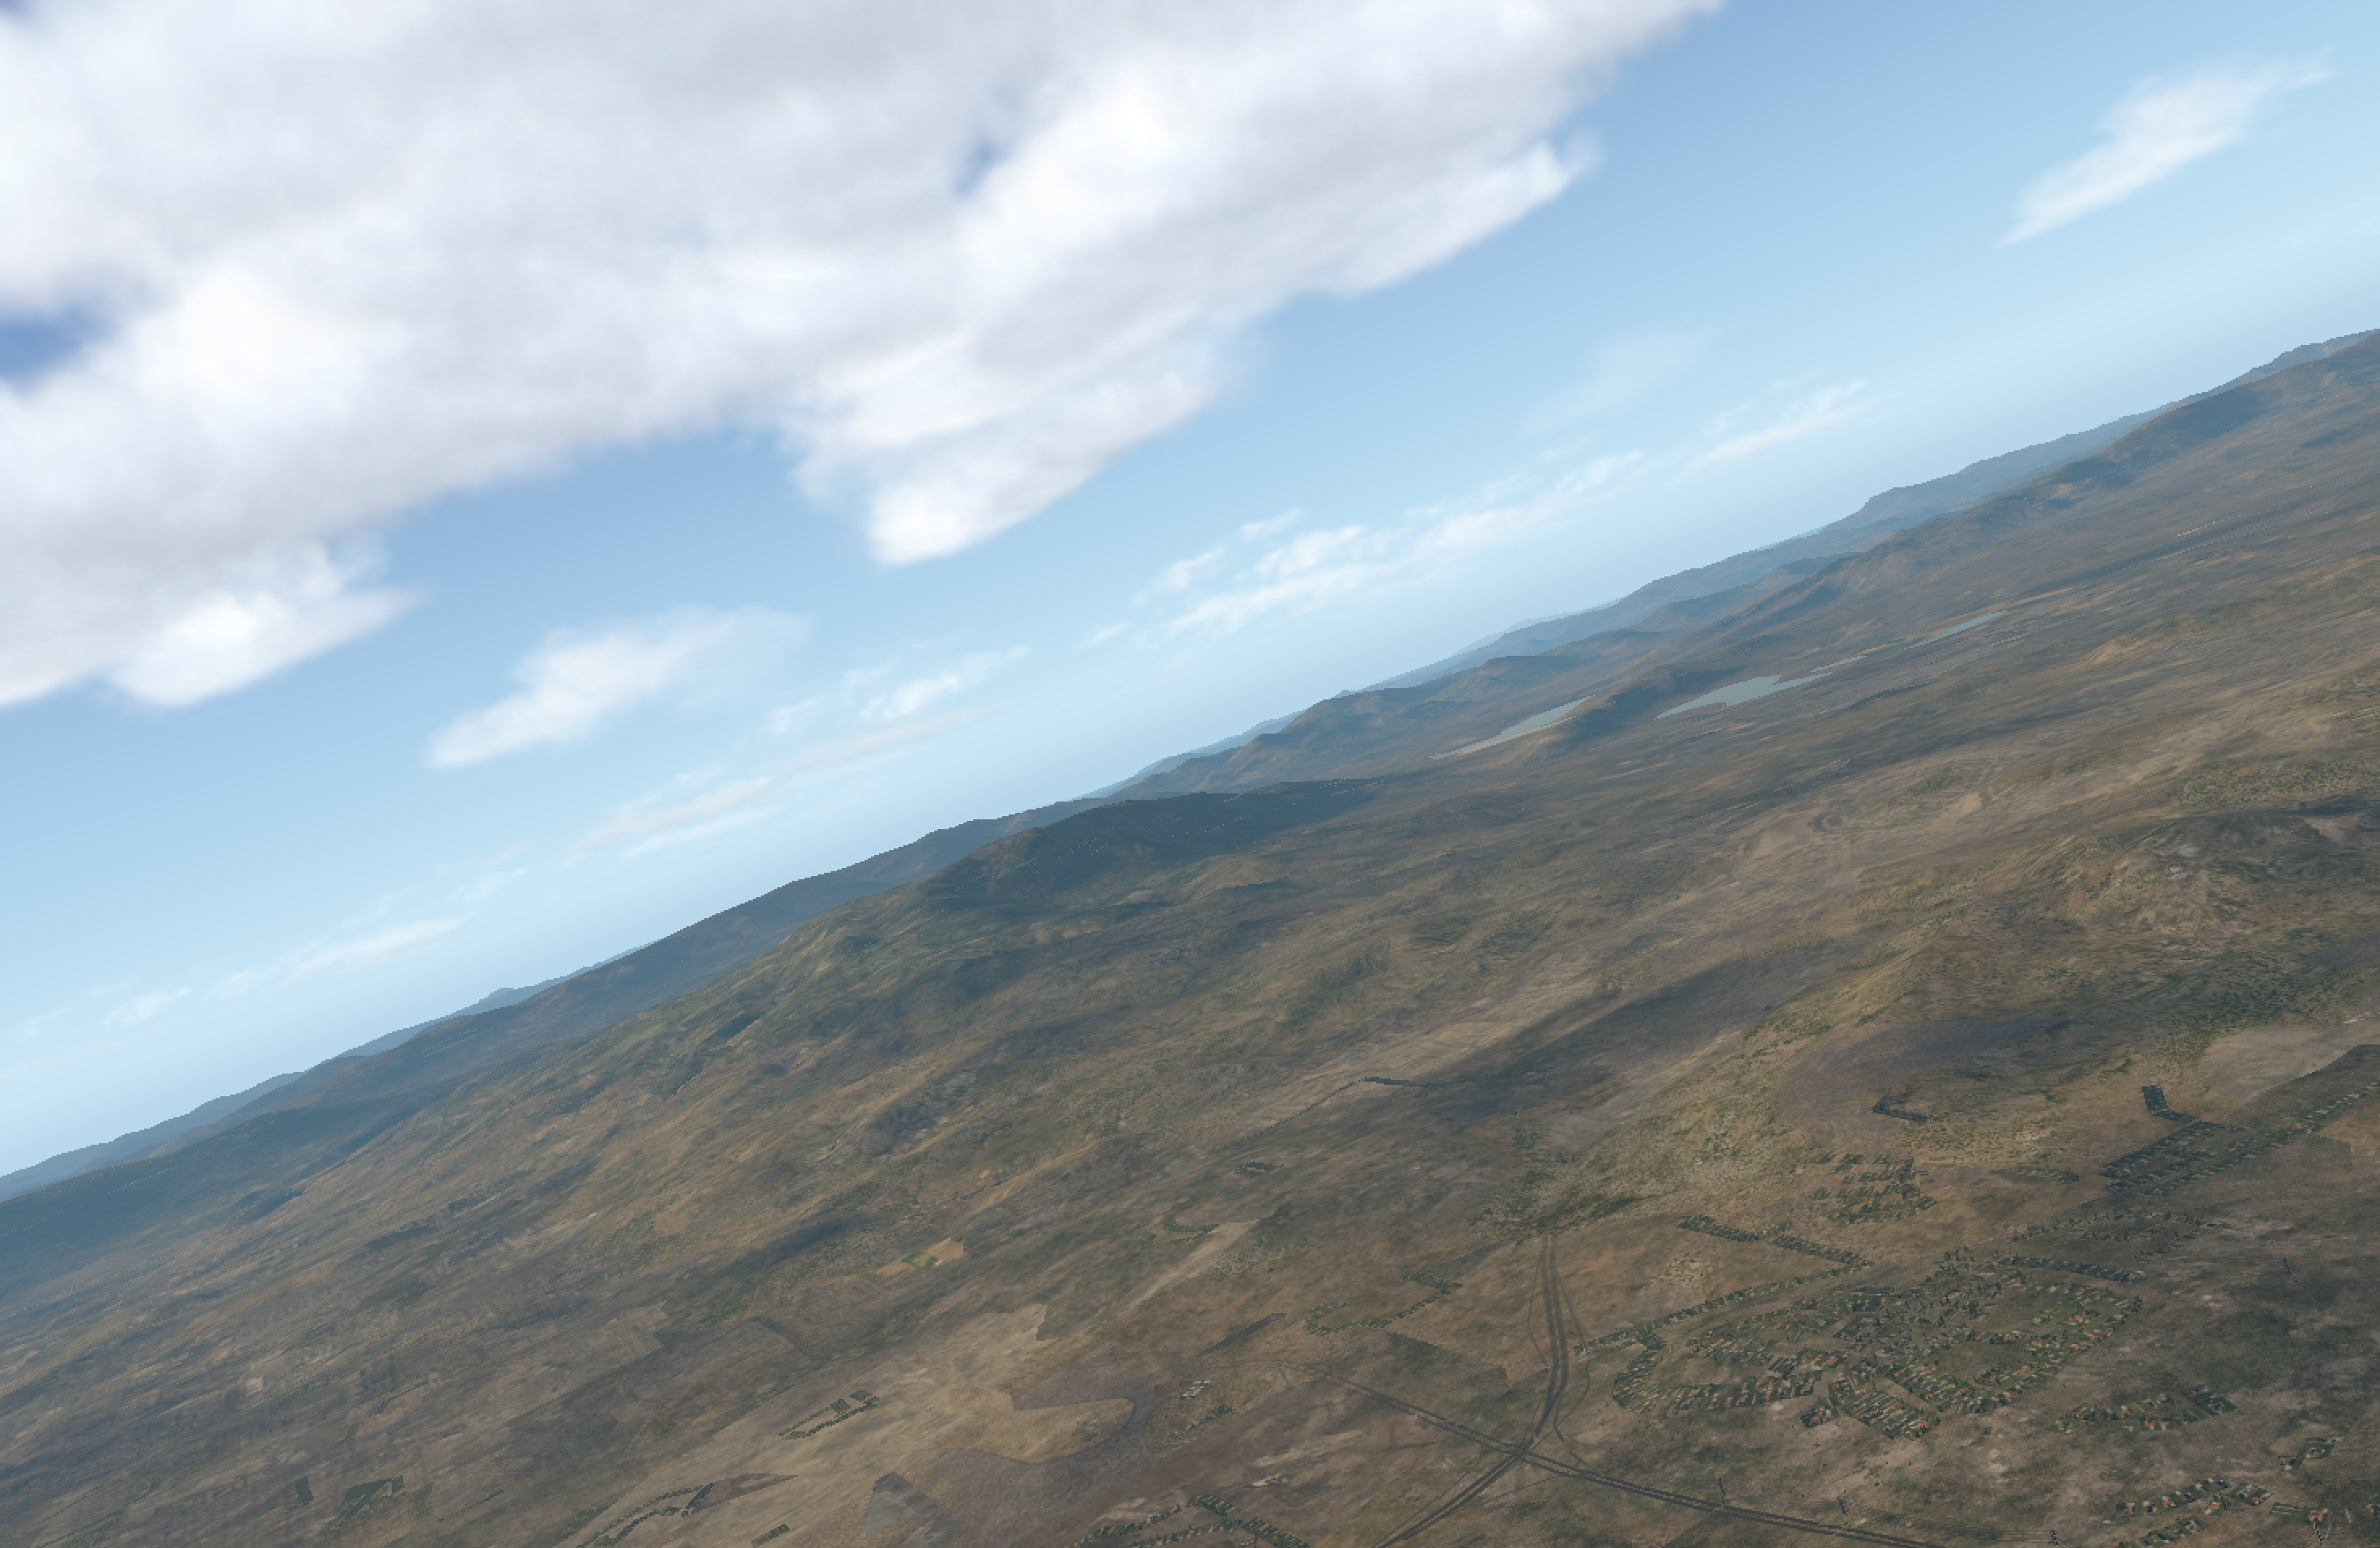aircraft: (1509, 1109, 1523, 1114)
